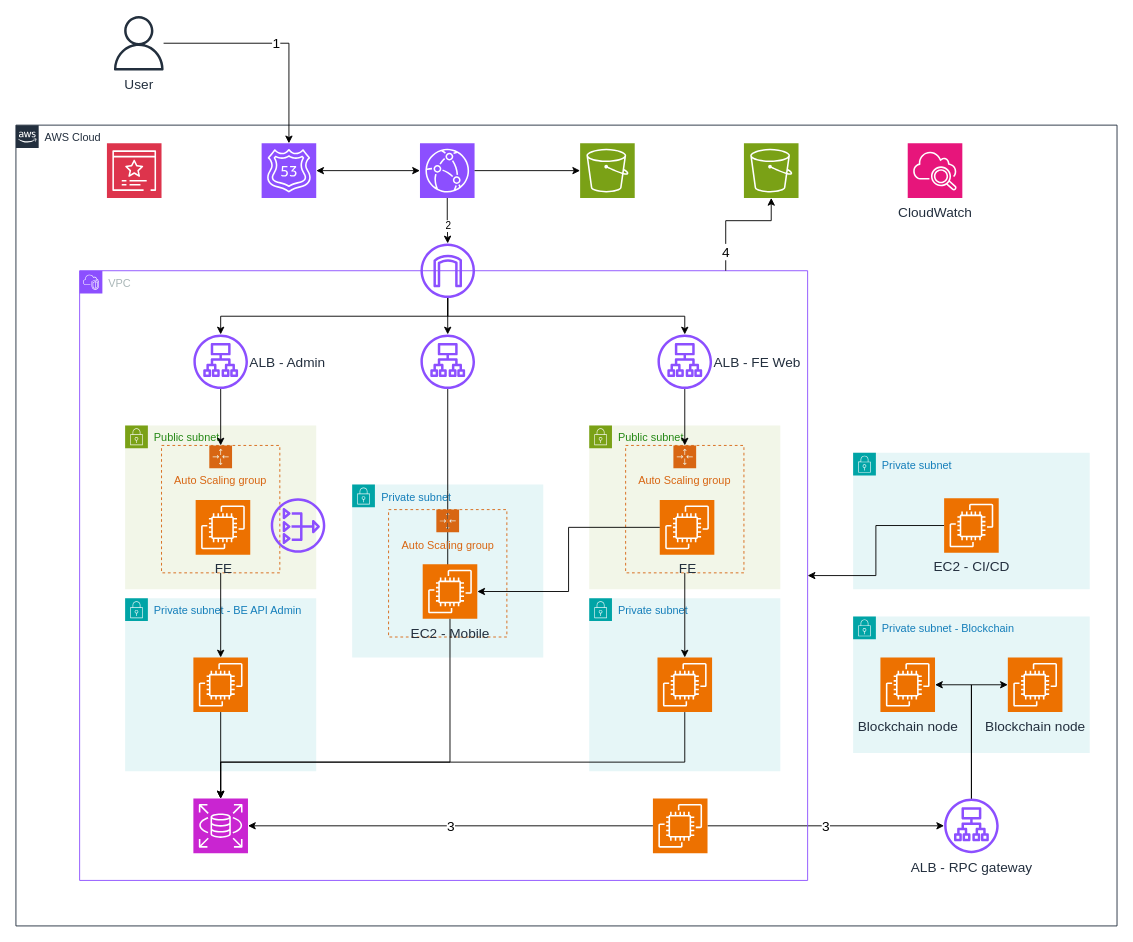
Image size: 1133x942. Some labels were removed from this diagram. The centre of each missing label's shape, as x and y in pixels:
"ACM" belongs at point 134,170.
"ALB - API" belongs at point 447,361.
"BE - API admin" belongs at point 220,684.
"BE - web explorer" belongs at point 684,684.
"CloudFront" belongs at point 447,170.
"Index & Converter" belongs at point 680,825.
"Internet Gateway" belongs at point 447,270.
"Nat Gateway" belongs at point 297,525.
"RDS - postgre" belongs at point 220,825.
"Route 53" belongs at point 288,170.
"S3 - Backup" belongs at point 771,170.
"S3 - Web hosting" belongs at point 607,170.
